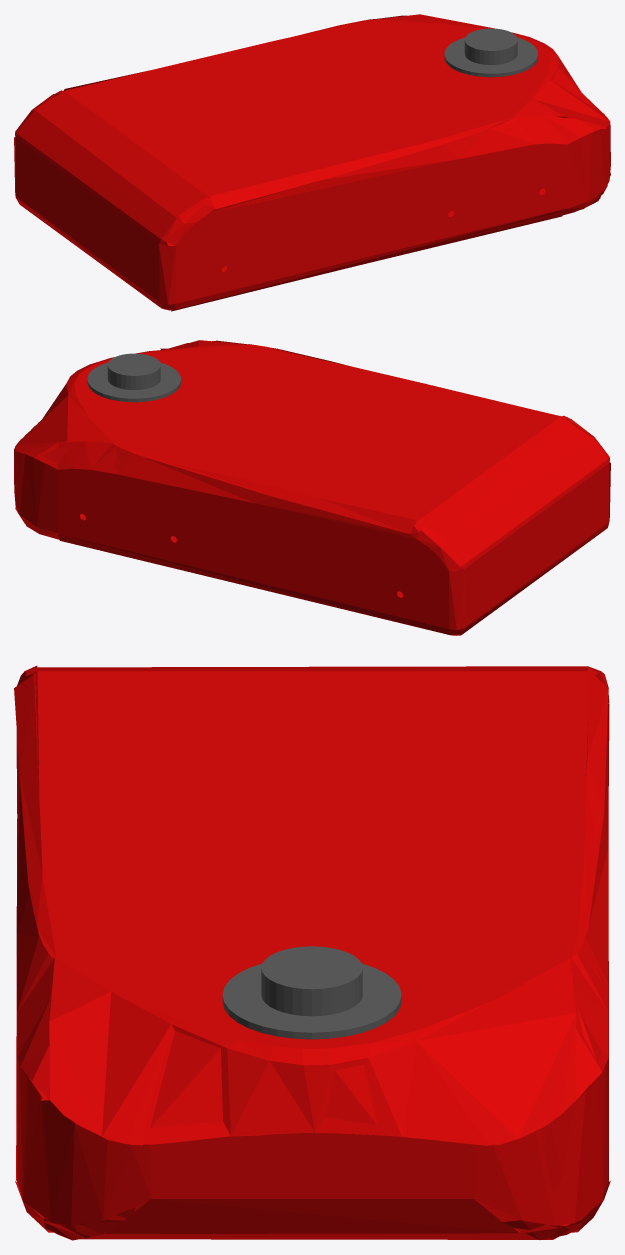
Rendered from tracker_chassis_no_tracks.dae.
3 renders of one model, top to bottom at view 1: azimuth 30°, elevation 25°; view 2: azimuth 150°, elevation 25°; view 3: azimuth 270°, elevation 25°, orthographic. The views are drawn at different scales.
Visible parts, largest first — view 1: body, arm_base_plate; view 2: body, arm_base_plate; view 3: body, arm_base_plate.
Boxes of the visible parts, x1=… form: body: x1=14, y1=14, x2=610, y2=311; arm_base_plate: x1=444, y1=28, x2=537, y2=77; body: x1=14, y1=340, x2=610, y2=635; arm_base_plate: x1=87, y1=353, x2=180, y2=402; body: x1=14, y1=665, x2=610, y2=1240; arm_base_plate: x1=222, y1=946, x2=401, y2=1039.
Bounding box in the file's own units: 0.7 × 0.4 × 0.1744.
